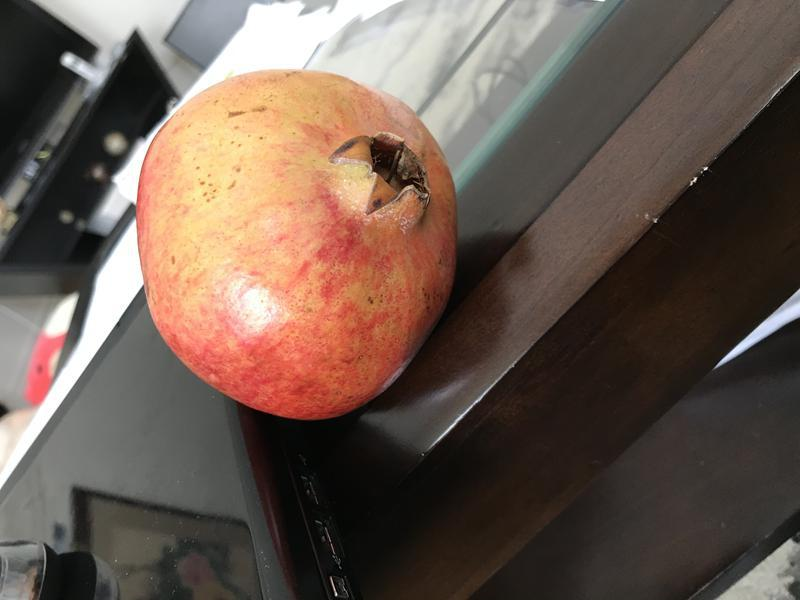pomegranate: (132, 60, 469, 427)
